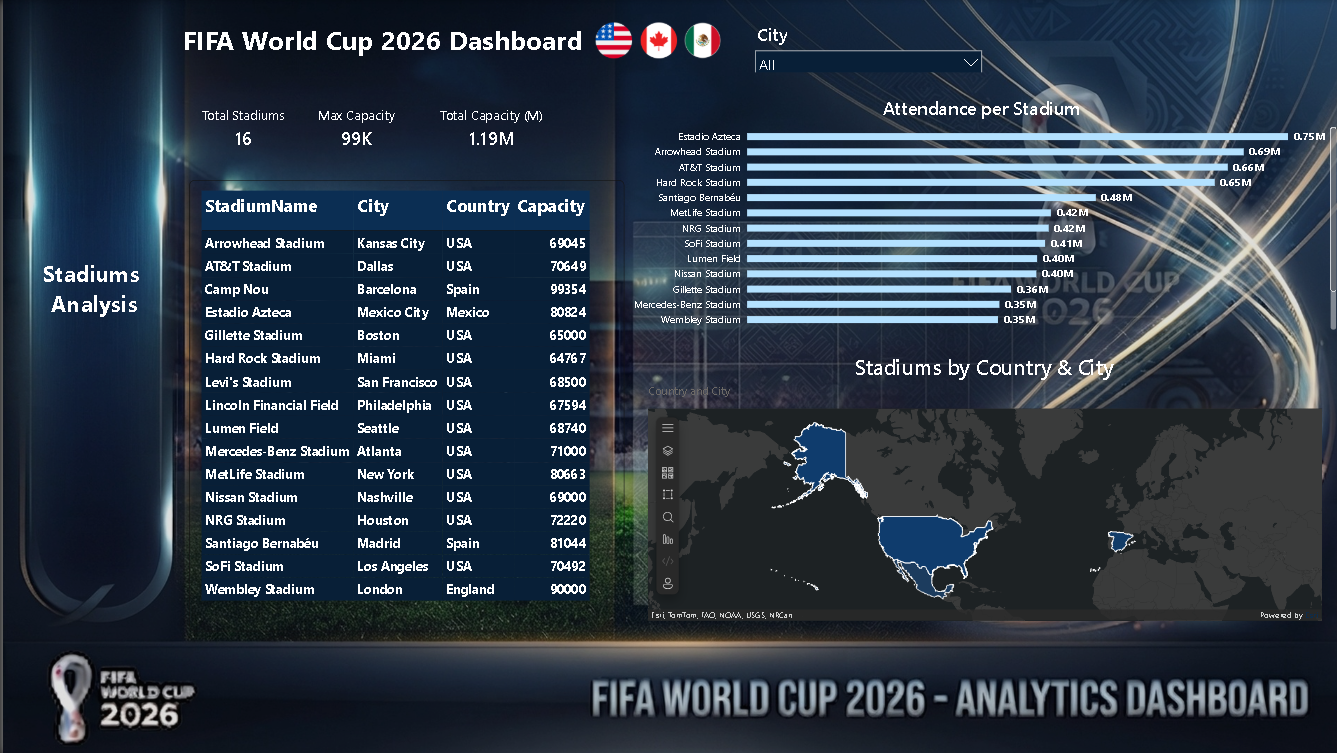

Layout of this report page (visuals, bound fields, positions):
{"tool":"powerbi","page":{"name":"stadium","canvas":[1920,1080],"ordinal":1},"visuals":[{"type":"textbox","box":[30.5,368.1,192.2,119.6],"z":0},{"type":"cardVisual","fields":{"Data":["Dax.Total Stadiums"]},"box":[267.3,128.9,152.4,89.1],"z":1000},{"type":"cardVisual","fields":{"Data":["Dax.Max Capacity"]},"box":[419.7,128.9,171.1,89.1],"z":2000},{"type":"cardVisual","fields":{"Data":["Dax.Total Capacity"]},"box":[579.2,129.5,238.5,88.6],"z":3000},{"type":"esriVisual","fields":{"Location":["3_Stadiums.Country"]},"box":[905.2,488.5,994,412.4],"z":4000},{"type":"barChart","title":"Attendance per Stadium","fields":{"Category":["3_Stadiums.StadiumName"],"Y":["Dax.Attendance by Stage"]},"box":[874.5,121.9,1045.6,365.7],"z":5000},{"type":"tableEx","fields":{"Values":["3_Stadiums.StadiumName","3_Stadiums.City","3_Stadiums.Country","3_Stadiums.Capacity"]},"box":[266.5,302.4,621.8,598.5],"z":6000},{"type":"textbox","box":[246.2,32.8,595.5,70.3],"z":7000},{"type":"image","box":[841.7,32.8,63.3,51.6],"z":8000},{"type":"image","box":[905,32.8,63.3,51.6],"z":9000},{"type":"image","box":[968.3,32.8,63.3,51.6],"z":10000},{"type":"slicer","fields":{"Values":["3_Stadiums.City"]},"box":[1069.1,16.4,335.3,86.7],"z":11000}]}

Visuals, with their boxes in screenshot pixels (x1, y1, x2, y2), scaled from the page's 1920x1080 canvas onto the 1337x753 screenshot:
textbox: [21,257,155,340]
cardVisual - Dax.Total Stadiums: [186,90,292,152]
cardVisual - Dax.Max Capacity: [292,90,411,152]
cardVisual - Dax.Total Capacity: [403,90,569,152]
esriVisual - 3_Stadiums.Country: [630,341,1323,628]
"Attendance per Stadium" barChart: [609,85,1336,340]
tableEx - 3_Stadiums.StadiumName x 3_Stadiums.City: [186,211,619,628]
textbox: [171,23,586,72]
image: [586,23,630,59]
image: [630,23,674,59]
image: [674,23,718,59]
slicer - 3_Stadiums.City: [744,11,978,72]
